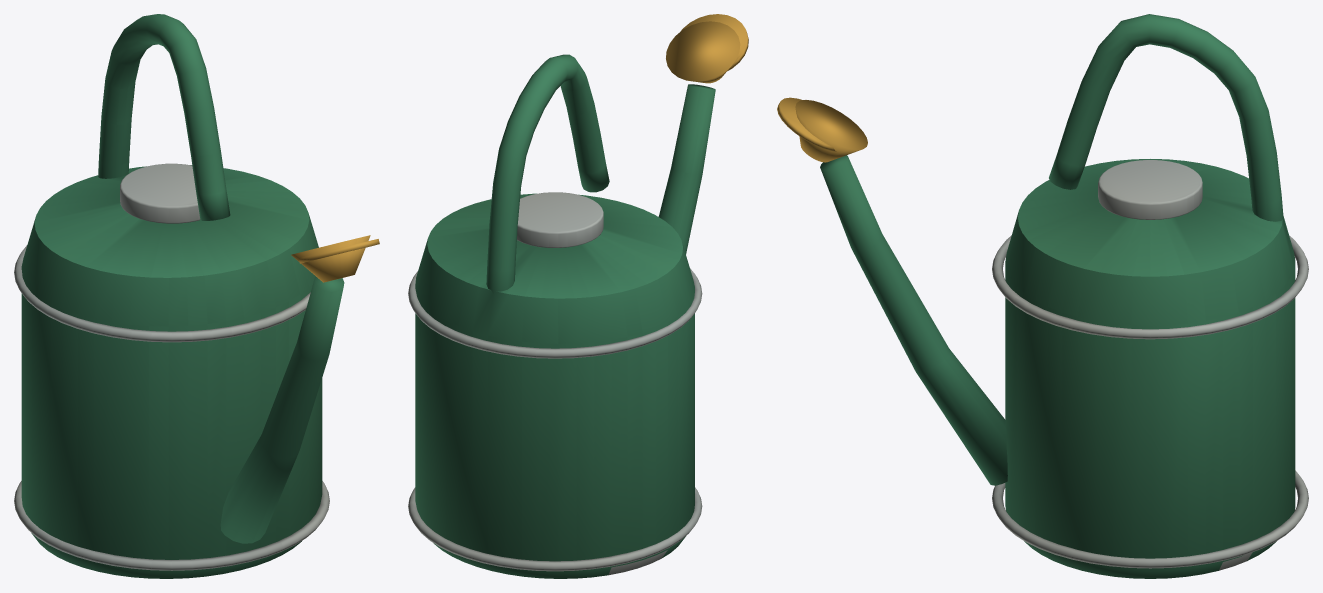
File: canopy_watering_can.glb
3 renders of one model, left to right at view 1: azimuth 30°, elevation 25°; view 2: azimuth 150°, elevation 25°; view 3: azimuth 270°, elevation 25°, orthographic. The views are drawn at different scales.
Visible parts, largest first — view 1: canopy_watering_can; view 2: canopy_watering_can; view 3: canopy_watering_can.
Part boxes in pixels (box(x1,y1,x2,y2)): canopy_watering_can: box(14, 14, 379, 578); canopy_watering_can: box(408, 14, 748, 578); canopy_watering_can: box(777, 14, 1308, 578).
Bounding box in the file's own units: 14.54 × 25.44 × 24.4.
